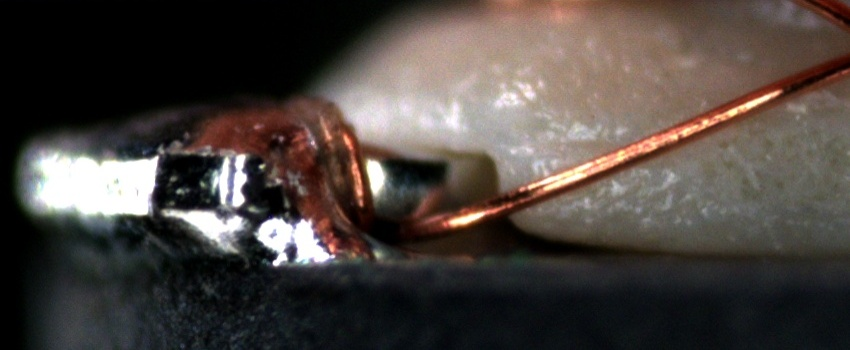DL: (516, 114, 635, 174)
TE: (328, 103, 391, 230)
